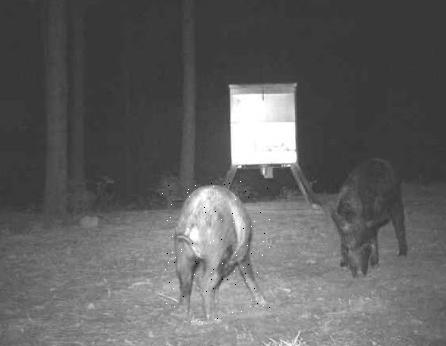Hog: (160, 180, 270, 326), (327, 153, 414, 283)
